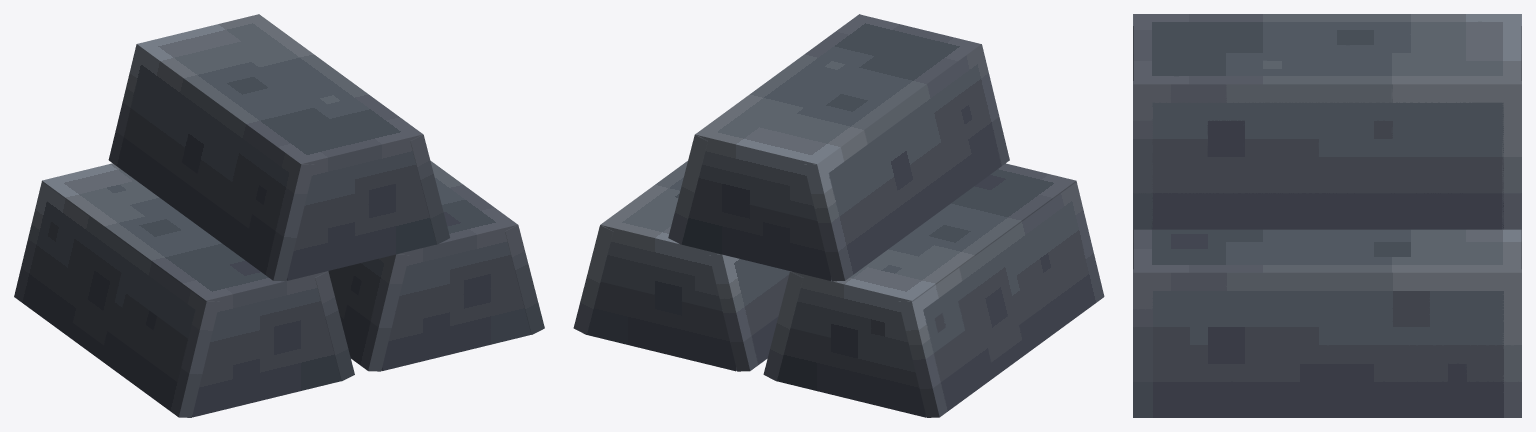
3 renders of one model, left to right at view 1: azimuth 30°, elevation 25°; view 2: azimuth 150°, elevation 25°; view 3: azimuth 270°, elevation 25°, orthographic. The views are drawn at different scales.
Visible parts, largest first — view 1: iron0-Local, iront1-Local, Y1$$(1)-Local, L1$$(1)-Local, iron3-Local, L1$$(3)-Local, Y1-Local, L1$$(2)-Local, L1-Local, R2$$(2)-Local, R2$$(3)-Local, Y2$$(1)-Local; view 2: iron0-Local, iront1-Local, L1$$(3)-Local, Y1$$(1)-Local, iron3-Local, Y1-Local, L1$$(1)-Local, L1$$(2)-Local, L1-Local, R2$$(1)-Local, R2-Local, Y2-Local; view 3: R2-Local, R2$$(1)-Local, iron0-Local, R2$$(3)-Local, iron3-Local, R2$$(2)-Local.
Part boxes in pixels (x1,y1,x2,y2): iron0-Local: (137, 14, 436, 280); iront1-Local: (42, 163, 341, 417); Y1$$(1)-Local: (14, 182, 219, 417); L1$$(1)-Local: (108, 44, 300, 276); iron3-Local: (381, 161, 531, 370); L1$$(3)-Local: (109, 65, 314, 281); Y1-Local: (14, 181, 204, 416); L1$$(2)-Local: (329, 254, 409, 371); L1-Local: (328, 254, 395, 349); R2$$(2)-Local: (430, 160, 544, 334); R2$$(3)-Local: (361, 89, 449, 244); Y2$$(1)-Local: (315, 271, 354, 380); iron0-Local: (681, 14, 980, 280); iront1-Local: (777, 163, 1076, 417); L1$$(3)-Local: (818, 44, 1009, 279); Y1$$(1)-Local: (913, 181, 1104, 416); iron3-Local: (587, 161, 736, 371); Y1-Local: (898, 235, 1103, 417); L1$$(1)-Local: (804, 51, 1009, 281); L1$$(2)-Local: (723, 255, 789, 370); L1-Local: (709, 254, 789, 371); R2$$(1)-Local: (668, 14, 858, 244); R2-Local: (573, 162, 685, 334); Y2-Local: (763, 271, 802, 381); R2-Local: (1134, 269, 1521, 417); R2$$(1)-Local: (1134, 81, 1521, 229); iron0-Local: (1133, 14, 1521, 84); R2$$(3)-Local: (1133, 81, 1520, 229); iron3-Local: (1133, 229, 1521, 272); R2$$(2)-Local: (1133, 269, 1520, 417).
Bounding box in the file's own units: 27.03 × 16 × 21.07.
15 materials, 15 textured.
